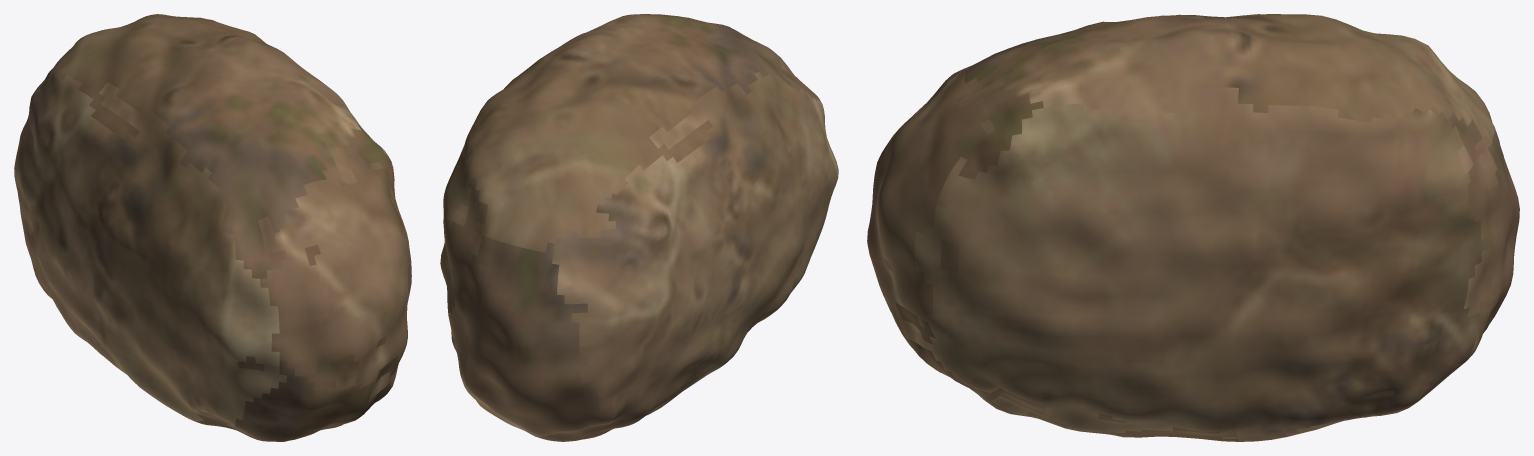
File: Big-Rock-4-tex.fbx
The picture shows the model from 3 angles, left to right: view 1: azimuth 30°, elevation 25°; view 2: azimuth 150°, elevation 25°; view 3: azimuth 270°, elevation 25°; orthographic projection. The views are drawn at different scales.
Visible parts, largest first — view 1: rock.004; view 2: rock.004; view 3: rock.004.
Boxes of the visible parts, box(x1,y1,x2,y2) form: rock.004: box(14, 14, 411, 441); rock.004: box(440, 14, 838, 441); rock.004: box(867, 14, 1519, 441).
Bounding box in the file's own units: 461 × 653 × 941.
